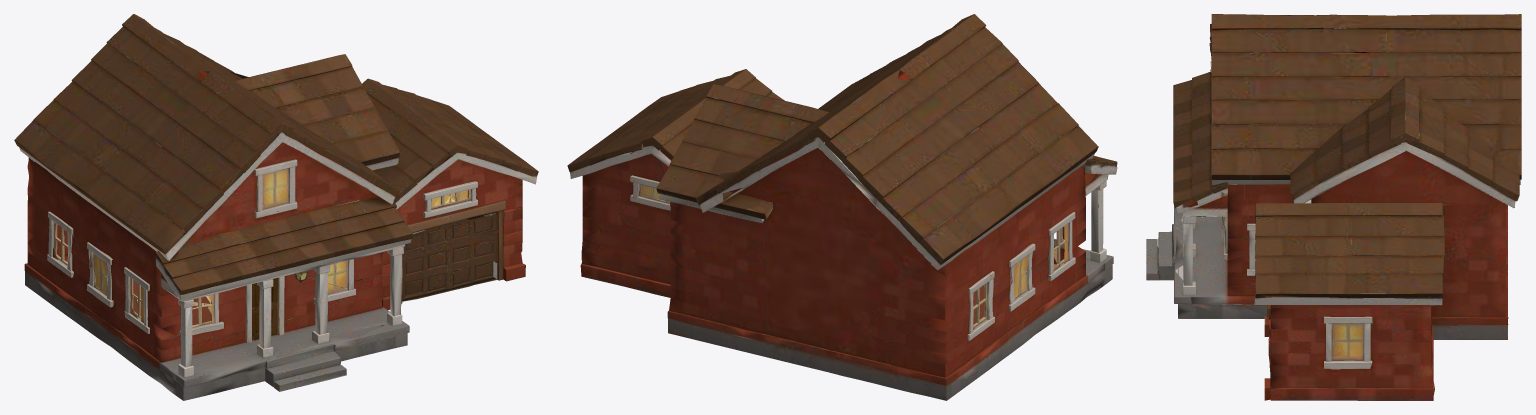
Rendered from house_red.glb.
3 views of the same model, side by side, from view 1: azimuth 30°, elevation 25°; view 2: azimuth 150°, elevation 25°; view 3: azimuth 270°, elevation 25° (orthographic). The views are drawn at different scales.
Parts seen in each view (by area): view 1: geometry_0; view 2: geometry_0; view 3: geometry_0.
Part boxes in pixels (<box>): geometry_0: <box>14,14,538,400</box>; geometry_0: <box>567,14,1117,400</box>; geometry_0: <box>1146,14,1521,400</box>.
Size of the model in its own units: 0.9502 by 0.5439 by 0.7422.
Materials: 1 (1 with a texture image).
